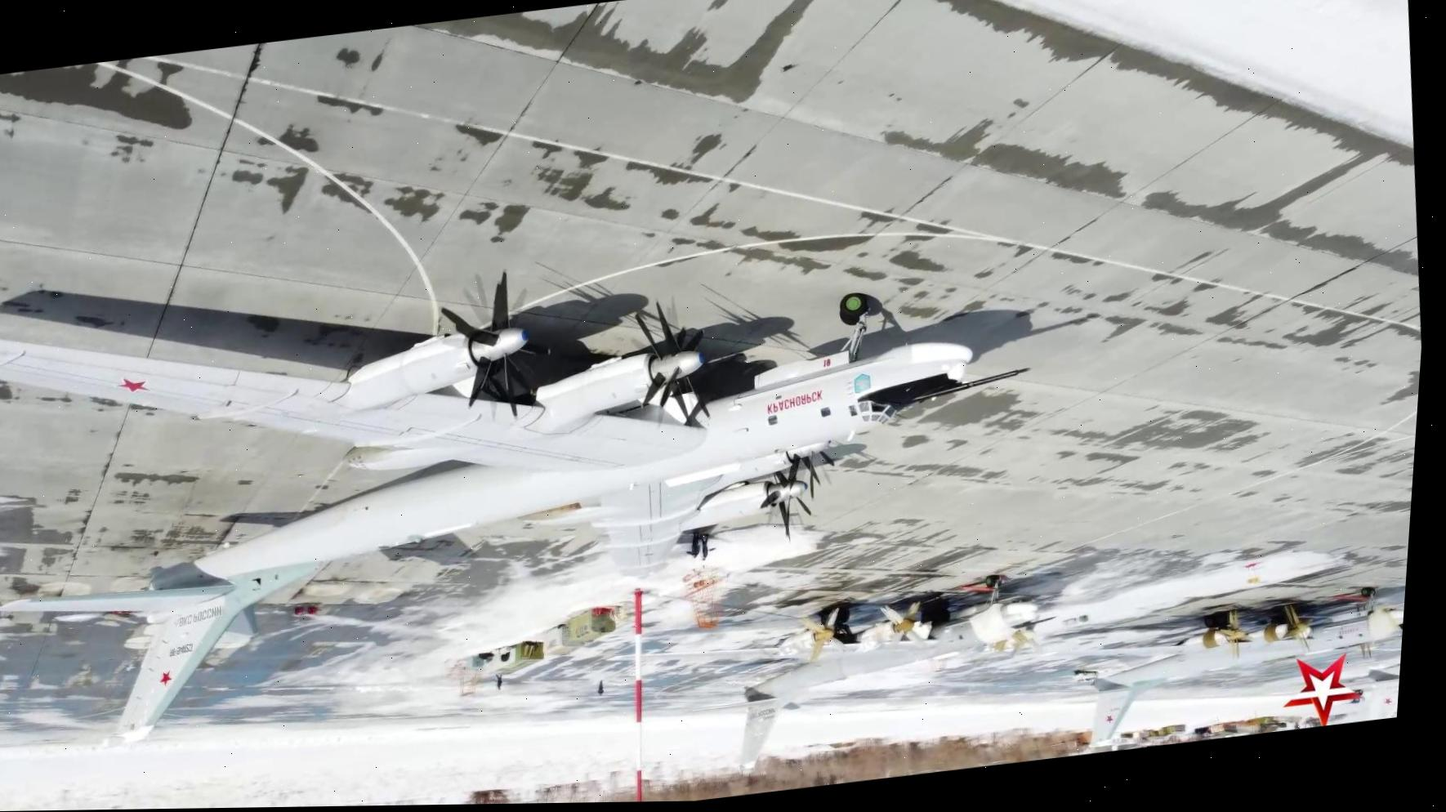plane: (0, 202, 1070, 765), (588, 560, 1115, 789), (1076, 572, 1406, 743), (1348, 619, 1403, 721)
